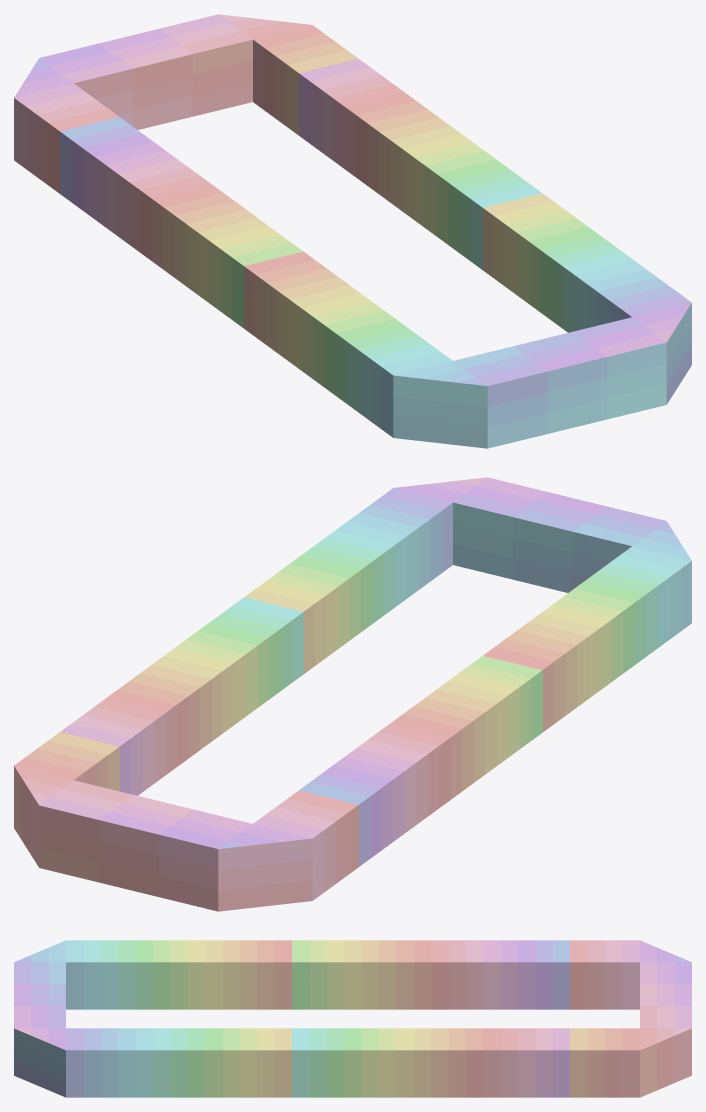
Rendered from conjured_stonecutter.obj.
3 renders of one model, top to bottom at view 1: azimuth 30°, elevation 25°; view 2: azimuth 150°, elevation 25°; view 3: azimuth 270°, elevation 25°, orthographic. The views are drawn at different scales.
Visible parts, largest first — view 1: STONECUTTER_Cube.007; view 2: STONECUTTER_Cube.007; view 3: STONECUTTER_Cube.007.
Boxes of the visible parts, left/top/right/bottom form: STONECUTTER_Cube.007: left=14, top=14, right=691, bottom=448; STONECUTTER_Cube.007: left=14, top=477, right=691, bottom=911; STONECUTTER_Cube.007: left=14, top=940, right=691, bottom=1097.
Bounding box in the file's own units: 0.3125 × 0.0625 × 0.8125.
